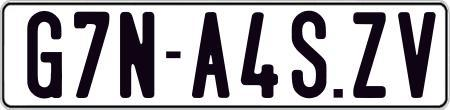4: (241, 12, 283, 99)
7: (73, 9, 110, 99)
A: (192, 12, 235, 98)
G: (27, 9, 64, 100)
N: (118, 10, 153, 100)
S: (291, 9, 328, 101)
V: (398, 12, 437, 102)
Z: (352, 11, 387, 101)
